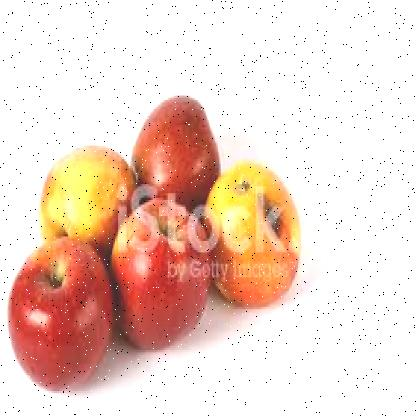apple: (11, 244, 109, 398), (113, 202, 212, 348), (135, 93, 227, 209), (44, 148, 126, 252)
damaged_apple: (206, 162, 309, 300)
